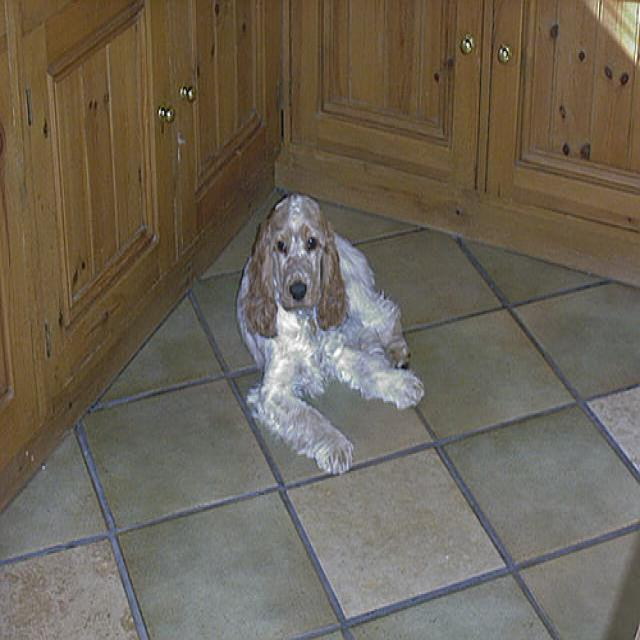dog-english_cocker_spaniel: (232, 184, 430, 483)
